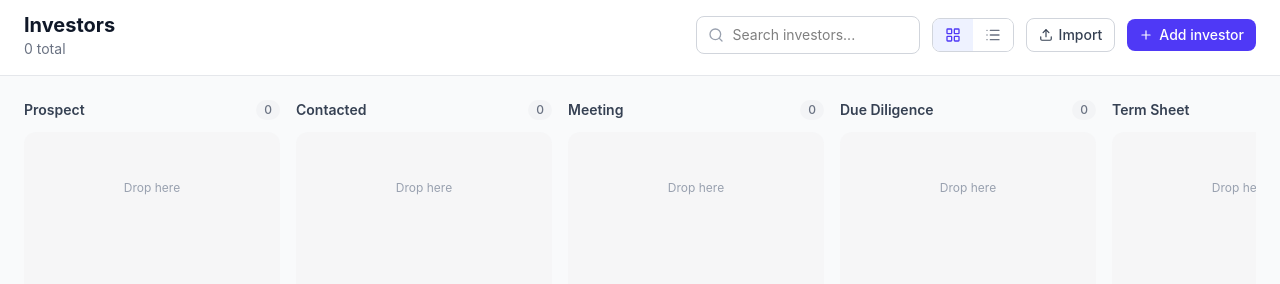
Scenario: InvestorsPage › shows "No investors found" in list view when search returns empty
The width and height of the screenshot is (1280, 284).
Click the button titled "List view".
click(993, 35)  # box x1=973 y1=19 x2=1013 y2=51
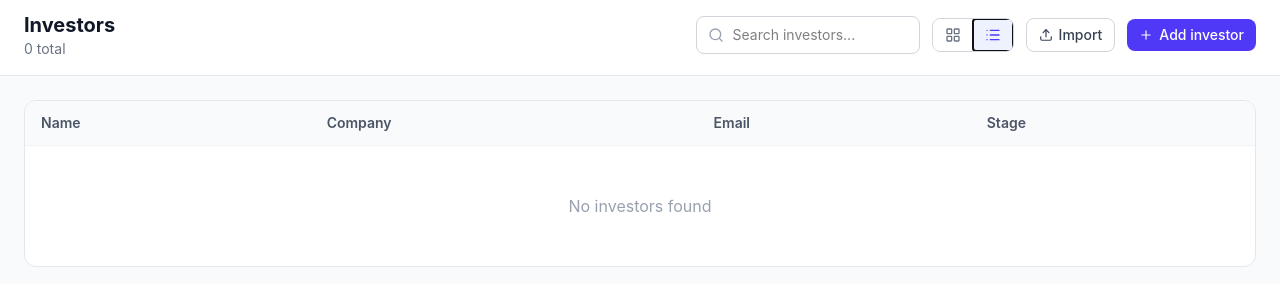
Expected: the text "No investors found" is shown, x1=568 y1=196 x2=712 y2=216
